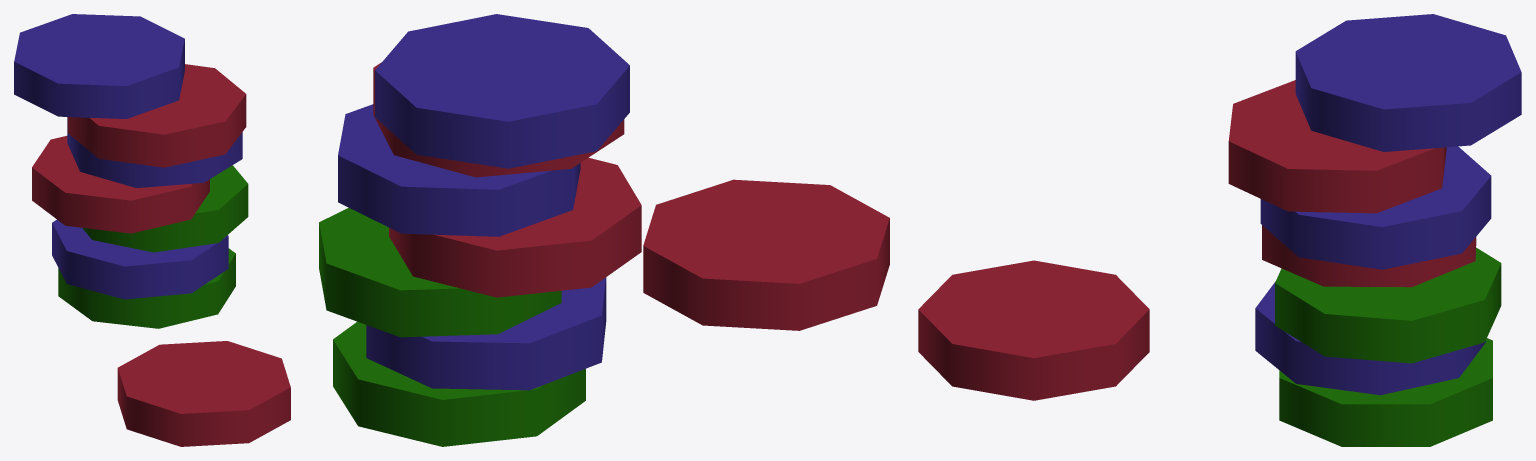
The model's file is moeda_poquer_pilha_cinco.fbx.
3 renders of one model, left to right at view 1: azimuth 30°, elevation 25°; view 2: azimuth 150°, elevation 25°; view 3: azimuth 270°, elevation 25°, orthographic. The views are drawn at different scales.
Parts seen in each view (by area): view 1: moeda_poquer_pilha_cinco; view 2: moeda_poquer_pilha_cinco; view 3: moeda_poquer_pilha_cinco.
Boxes of the visible parts, bbox=[...] form: moeda_poquer_pilha_cinco: bbox=[14, 14, 290, 446]; moeda_poquer_pilha_cinco: bbox=[319, 14, 889, 446]; moeda_poquer_pilha_cinco: bbox=[918, 14, 1521, 446].
Bounding box in the file's own units: 8.63 × 8.22 × 14.24.
